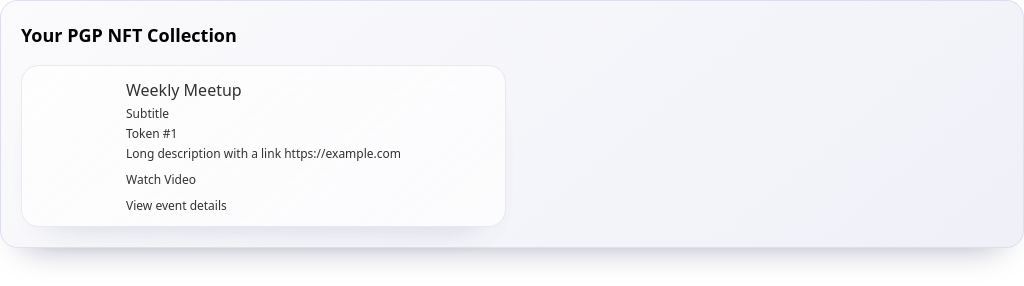
Test case: NftCollection › allows toggling description preview
Click the button "Long description with a link https://example.com" at (264, 154), box [126,146,401,162]
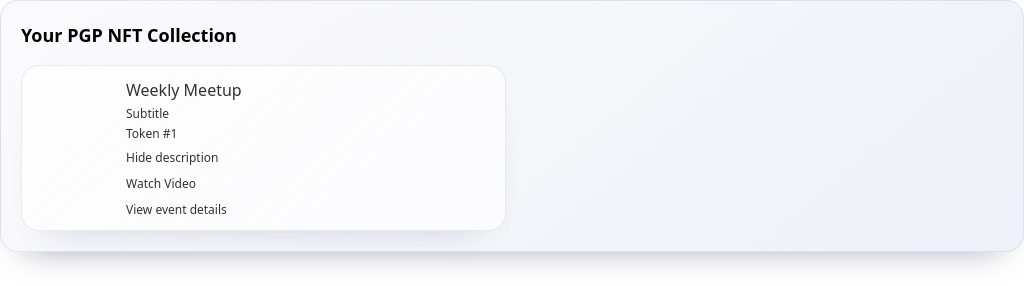
Now the button "Hide description" is shown, box [126,150,218,166]
